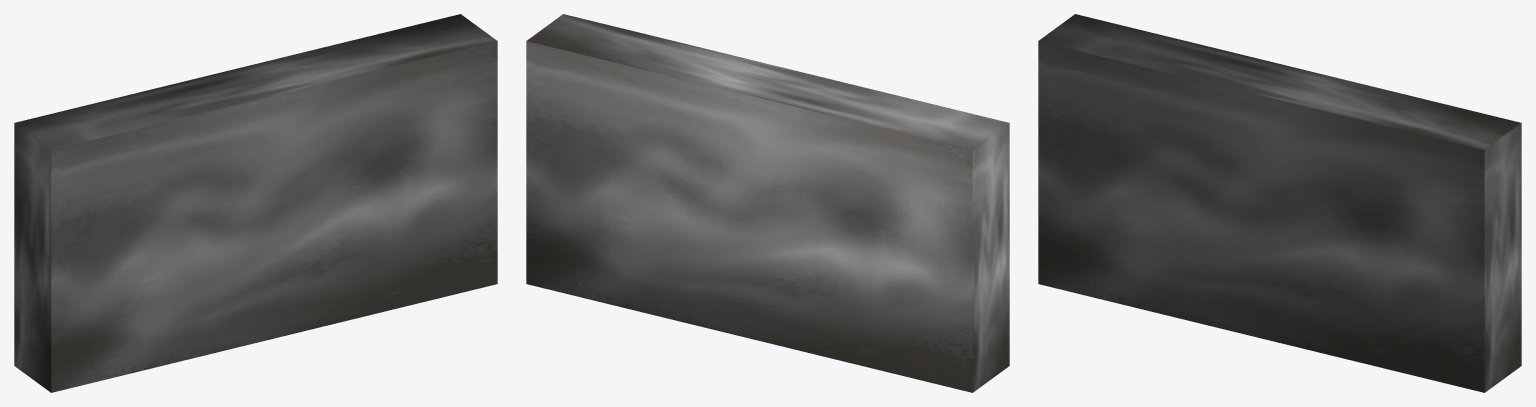
Rendered from cj_open_sign_2.obj.
3 renders of one model, left to right at view 1: azimuth 30°, elevation 25°; view 2: azimuth 150°, elevation 25°; view 3: azimuth 330°, elevation 25°, orthographic.
Visible parts, largest first — view 1: CJ_OPEN_SIGN_2; view 2: CJ_OPEN_SIGN_2; view 3: CJ_OPEN_SIGN_2.
Boxes of the visible parts, x1=… form: CJ_OPEN_SIGN_2: x1=14, y1=14, x2=497, y2=392; CJ_OPEN_SIGN_2: x1=526, y1=14, x2=1009, y2=392; CJ_OPEN_SIGN_2: x1=1038, y1=14, x2=1521, y2=392.
Bounding box in the file's own units: 1.01 × 0.5264 × 0.1453.
